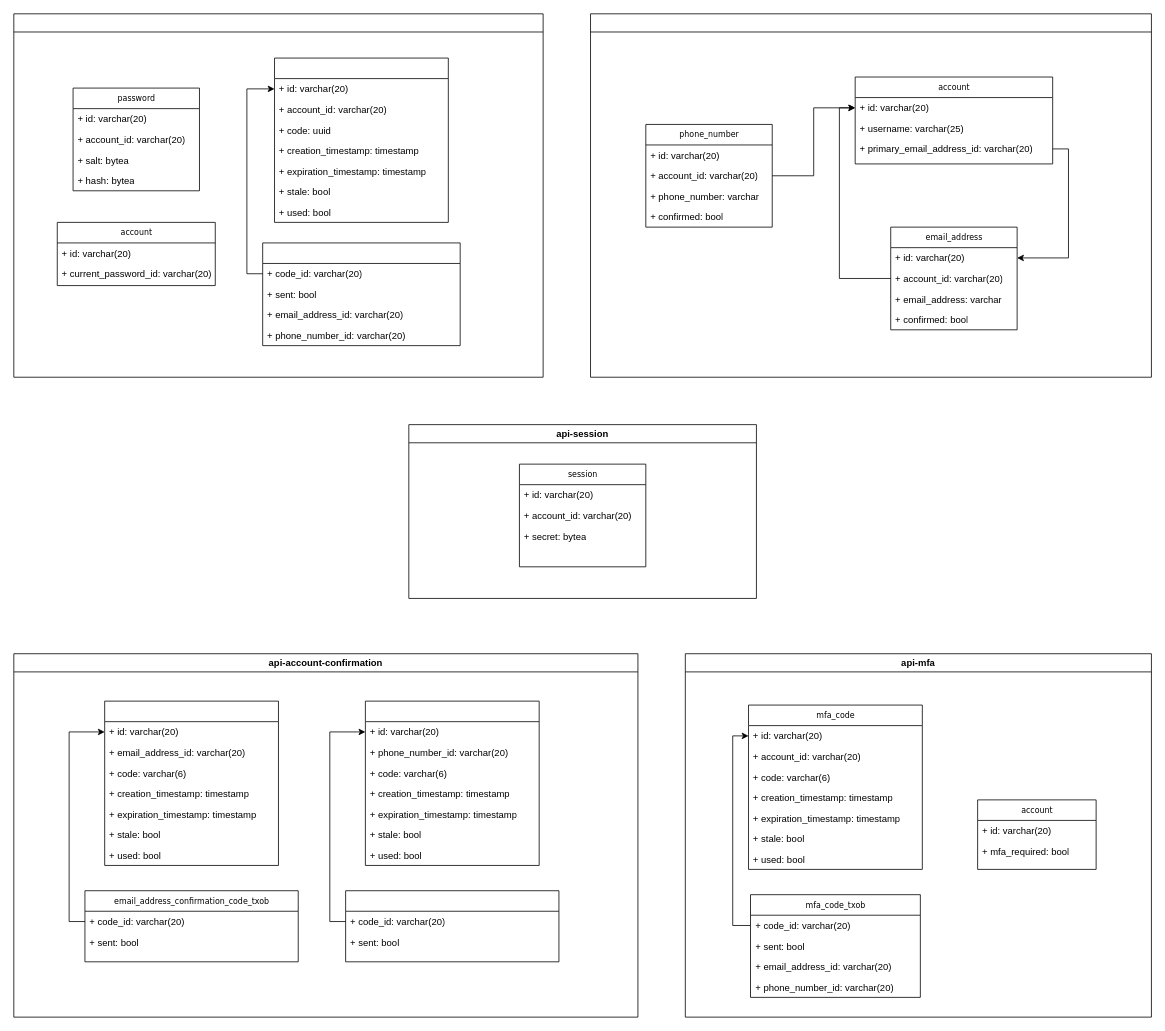
This 1165x1031 diagram has some shape labels left out. Here are the shapes that lost their labels. From the top down, the box of each, then its label:
(274, 57, 448, 222): password_reset_code
(13, 13, 543, 377): api-password
(590, 13, 1151, 377): api-account
(262, 242, 460, 346): password_reset_code_txob
(104, 700, 278, 865): email_address_confirmation_code
(365, 700, 539, 865): phone_number_confirmation_code
(345, 890, 559, 962): phone_number_confirmation_code_txob
